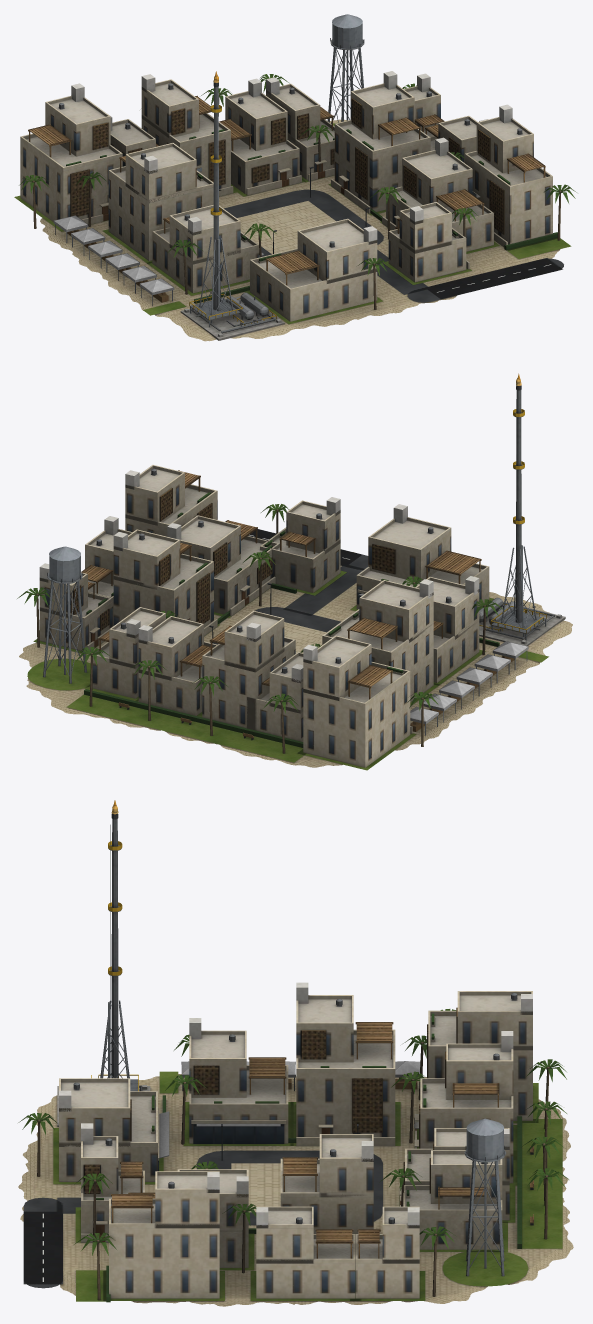
File: modern-town-medium-b-levant-a8569e2e.glb
3 renders of one model, top to bottom at view 1: azimuth 30°, elevation 25°; view 2: azimuth 150°, elevation 25°; view 3: azimuth 270°, elevation 25°, orthographic. The views are drawn at different scales.
Visible parts, largest first — view 1: LOD0; view 2: LOD0; view 3: LOD0.
Boxes of the visible parts, bbox=[...] form: LOD0: bbox=[14, 14, 576, 341]; LOD0: bbox=[17, 373, 572, 770]; LOD0: bbox=[18, 800, 573, 1306].
Size of what is drawn, in the model's own units: 6.25 by 3.6 by 6.07.
Materials: 3 (3 with a texture image).
